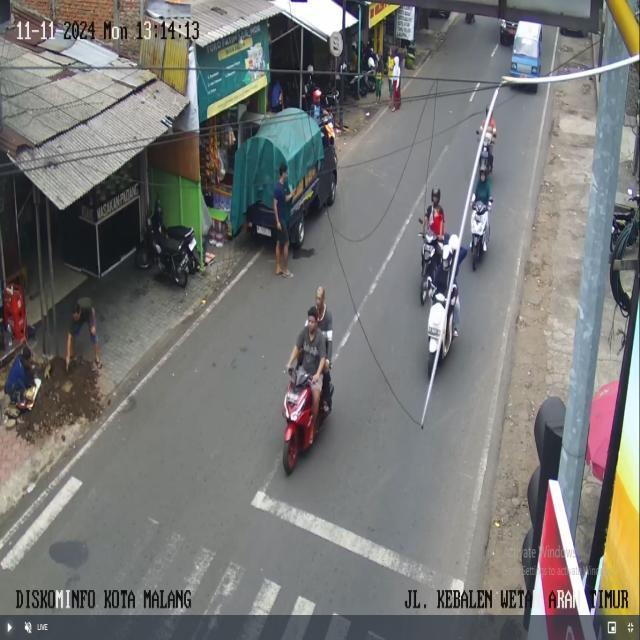Helmet: (442, 245, 451, 270), (448, 234, 460, 252), (474, 200, 486, 214), (312, 88, 321, 103), (431, 187, 440, 200), (368, 56, 375, 69), (479, 168, 486, 177), (307, 64, 313, 73), (485, 106, 488, 114)
Number Plate: (256, 225, 271, 236), (428, 327, 440, 338), (188, 238, 195, 250)
